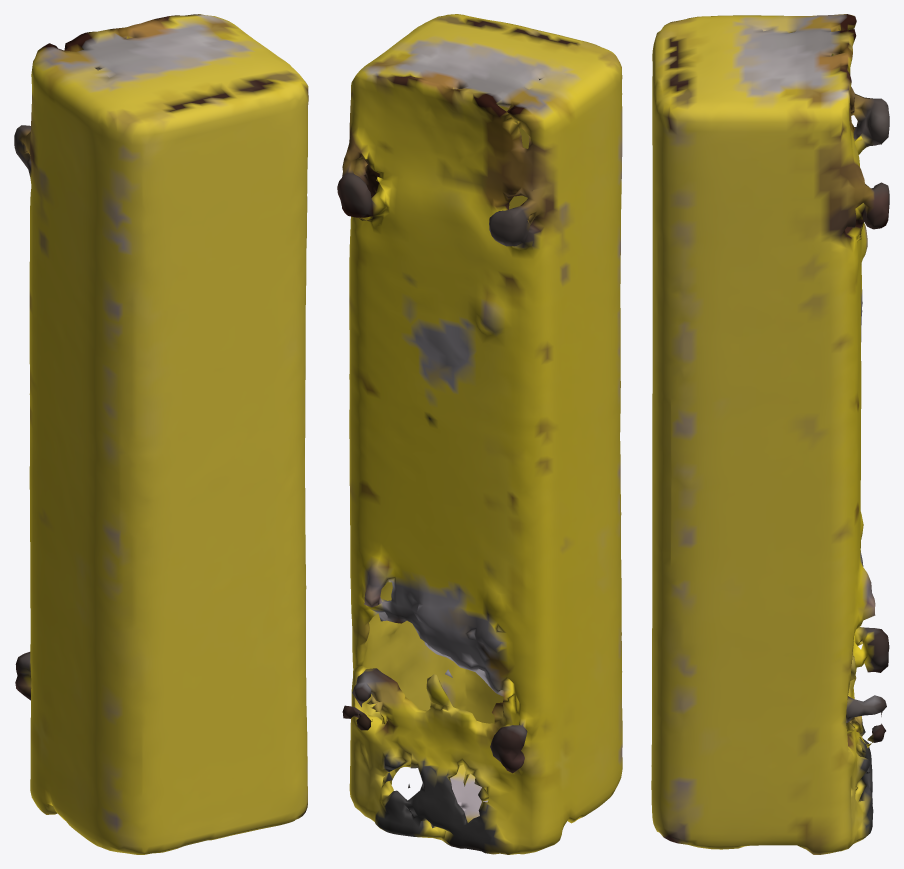
Rendered from school_bus1.glb.
The picture shows the model from 3 angles, left to right: view 1: azimuth 30°, elevation 25°; view 2: azimuth 150°, elevation 25°; view 3: azimuth 270°, elevation 25°; orthographic projection.
Size of the model in its own units: 0.2812 by 0.9994 by 0.2825.
